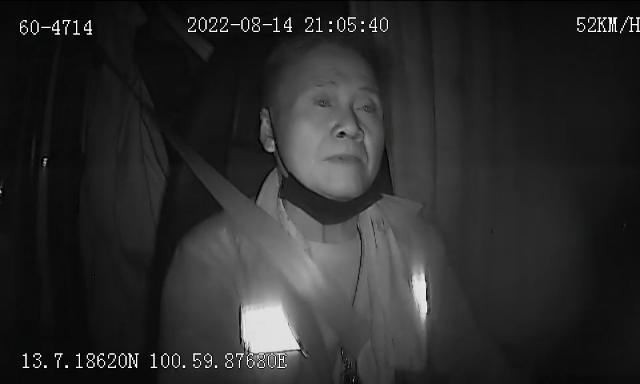SafeDriving: (351, 88, 384, 122), (308, 86, 339, 116)
Seatbelt: (184, 148, 368, 384)
